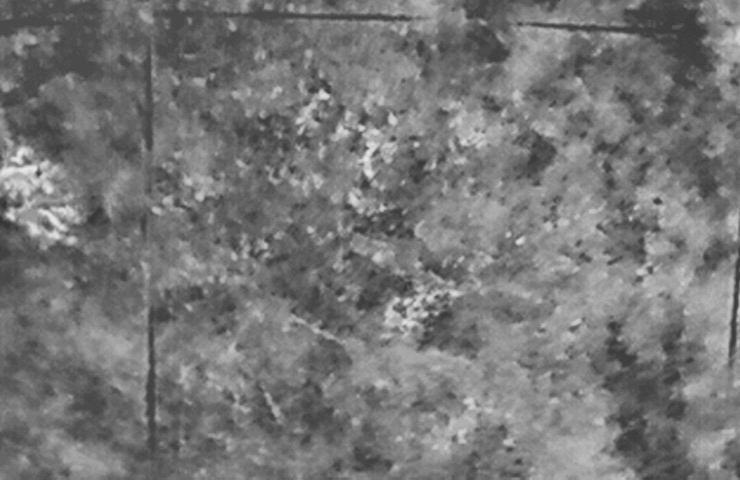landmines: (381, 291, 432, 341)
